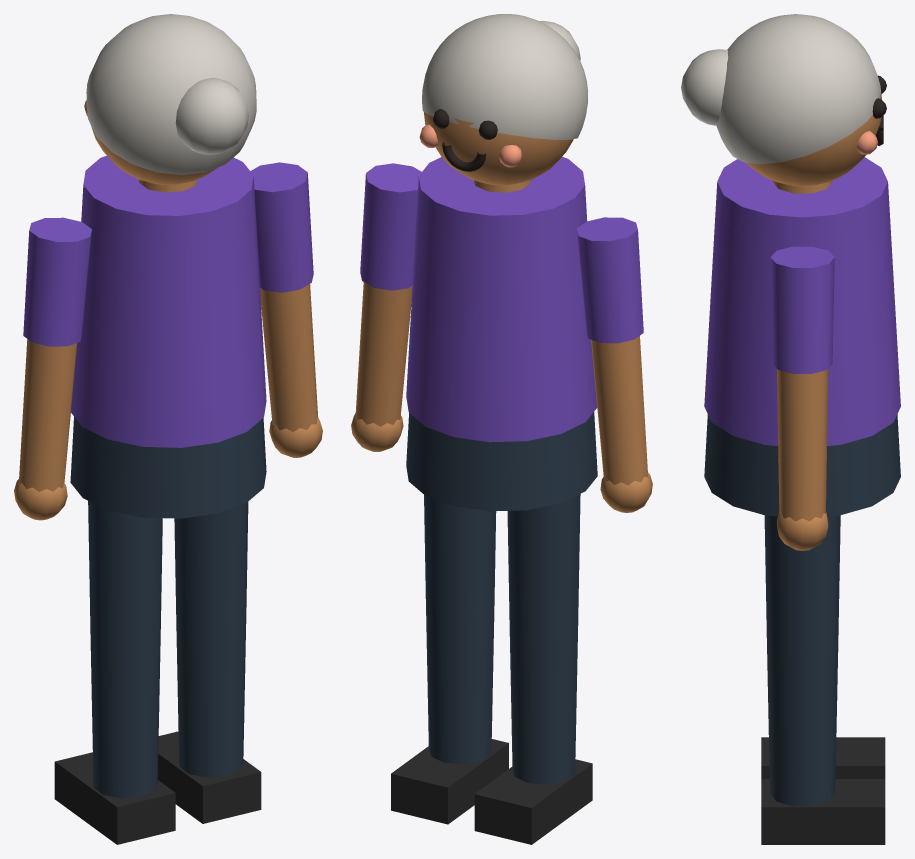
The model's file is person_7a53c6.fbx.
3 views of the same model, side by side, from view 1: azimuth 30°, elevation 25°; view 2: azimuth 150°, elevation 25°; view 3: azimuth 270°, elevation 25° (orthographic). The views are drawn at different scales.
Visible parts, largest first — view 1: M__person_7a53c6-body, M__person_7a53c6-shinL, M__person_7a53c6-armL, M__person_7a53c6-shinR, M__person_7a53c6-armR, M__person_7a53c6-legL, M__person_7a53c6-legR; view 2: M__person_7a53c6-body, M__person_7a53c6-shinL, M__person_7a53c6-shinR, M__person_7a53c6-armL, M__person_7a53c6-armR, M__person_7a53c6-legL, M__person_7a53c6-legR; view 3: M__person_7a53c6-body, M__person_7a53c6-shinR, M__person_7a53c6-armR, M__person_7a53c6-legR, M__person_7a53c6-shinL.
Boxes of the visible parts, box(x1,y1,x2,y2) form: M__person_7a53c6-body: box(70, 14, 266, 518); M__person_7a53c6-shinL: box(54, 632, 175, 844); M__person_7a53c6-armL: box(14, 217, 91, 520); M__person_7a53c6-shinR: box(157, 611, 261, 823); M__person_7a53c6-armR: box(250, 162, 322, 457); M__person_7a53c6-legL: box(88, 501, 162, 648); M__person_7a53c6-legR: box(174, 502, 248, 627); M__person_7a53c6-body: box(406, 14, 597, 511); M__person_7a53c6-shinL: box(474, 622, 592, 844); M__person_7a53c6-shinR: box(391, 602, 508, 824); M__person_7a53c6-armL: box(576, 217, 652, 512); M__person_7a53c6-armR: box(351, 163, 421, 451); M__person_7a53c6-legL: box(507, 494, 580, 638); M__person_7a53c6-legR: box(424, 495, 496, 618); M__person_7a53c6-body: box(681, 14, 900, 516); M__person_7a53c6-shinR: box(761, 643, 885, 844); M__person_7a53c6-armR: box(770, 246, 834, 550); M__person_7a53c6-legR: box(764, 515, 840, 657); M__person_7a53c6-shinL: box(761, 737, 885, 778).
Bounding box in the file's own units: 0.67 × 1.68 × 0.425.
